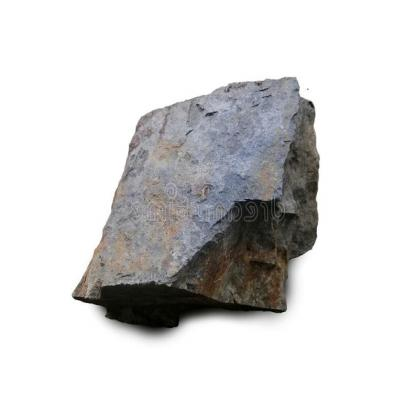Sedimentary_Limestone: (57, 43, 328, 330)
